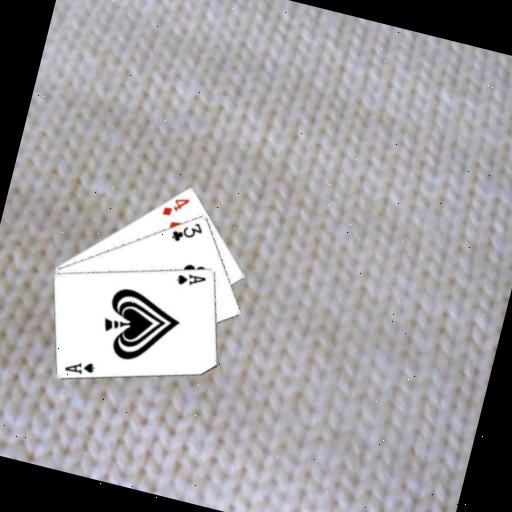3C: (168, 214, 206, 249)
4D: (159, 189, 193, 222)
AS: (61, 353, 98, 379), (173, 268, 209, 292)
